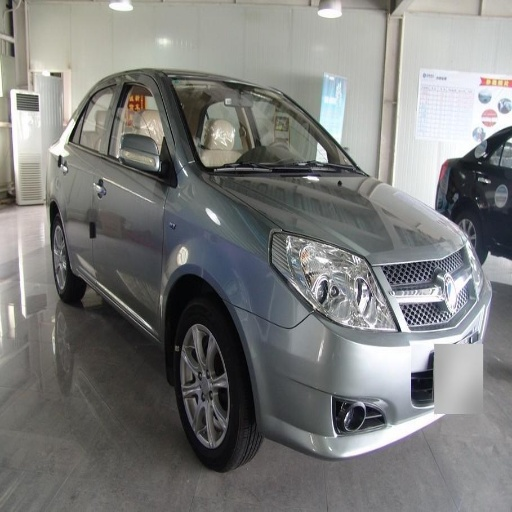front_bumper: (234, 255, 481, 457)
front_right_door: (94, 73, 176, 320)
front_right_light: (271, 230, 396, 333)
